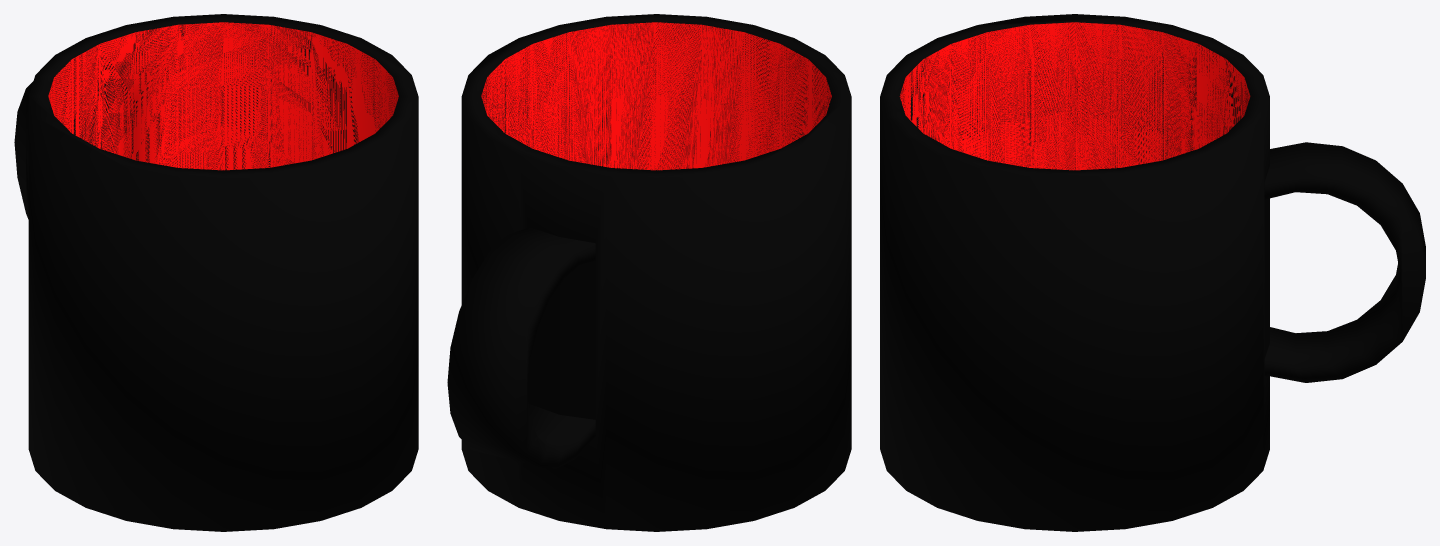
Rendered from mug_03_origin_gt_4.dae.
The picture shows the model from 3 angles, left to right: view 1: azimuth 30°, elevation 25°; view 2: azimuth 150°, elevation 25°; view 3: azimuth 270°, elevation 25°; orthographic projection.
Visible parts, largest first — view 1: group_0 (×2); view 2: group_0 (×2); view 3: group_0 (×2).
Boxes of the visible parts, x1,y1,x2,y2 form: group_0 (×2): (14, 14, 418, 531); group_0 (×2): (447, 14, 851, 531); group_0 (×2): (880, 14, 1425, 531).
Size of the model in its own units: 2.64 by 3.7 by 2.64.
